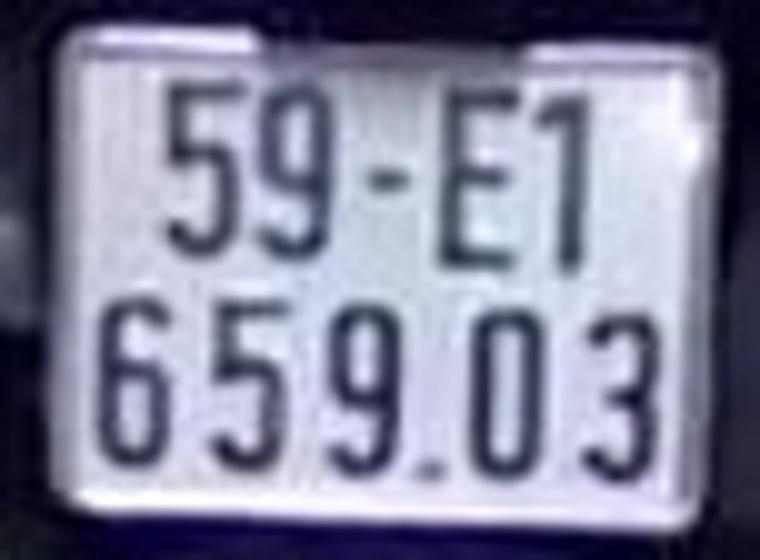-: (97, 293, 169, 469), (362, 166, 412, 198), (418, 455, 444, 482)
0: (464, 311, 539, 482)
1: (533, 95, 591, 276)
3: (582, 307, 651, 488)
5: (161, 80, 245, 255)
9: (207, 295, 288, 473), (323, 295, 397, 480), (260, 85, 330, 257)
E: (442, 83, 517, 275)
